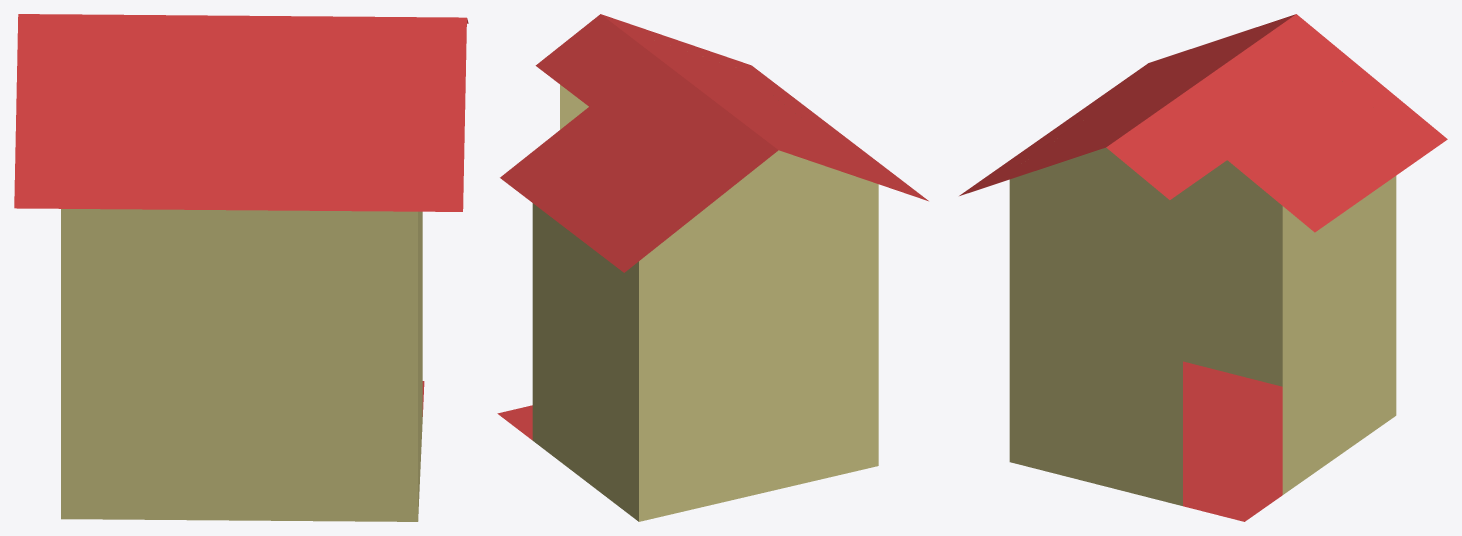
3 views of the same model, side by side, from view 1: azimuth 30°, elevation 25°; view 2: azimuth 150°, elevation 25°; view 3: azimuth 270°, elevation 25° (orthographic). The views are drawn at different scales.
Size of the model in its own units: 11.81 by 13.01 by 10.48.
